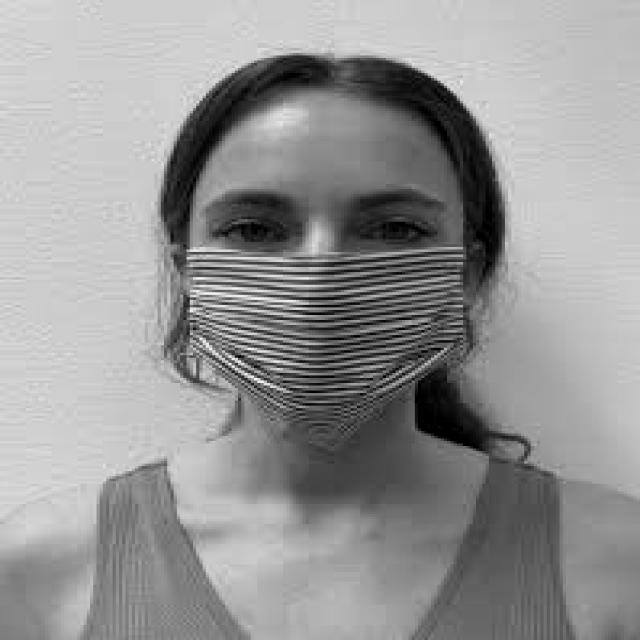fake: (182, 244, 473, 447)
real: (186, 92, 471, 417)
